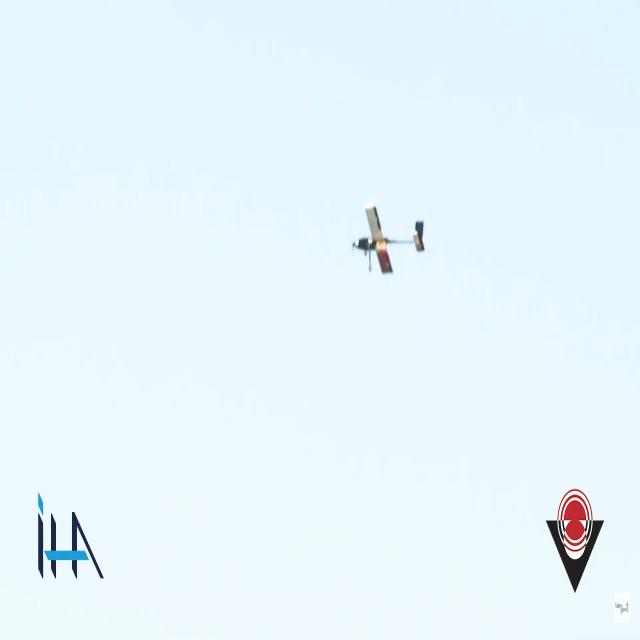iha: (381, 232, 394, 245)
